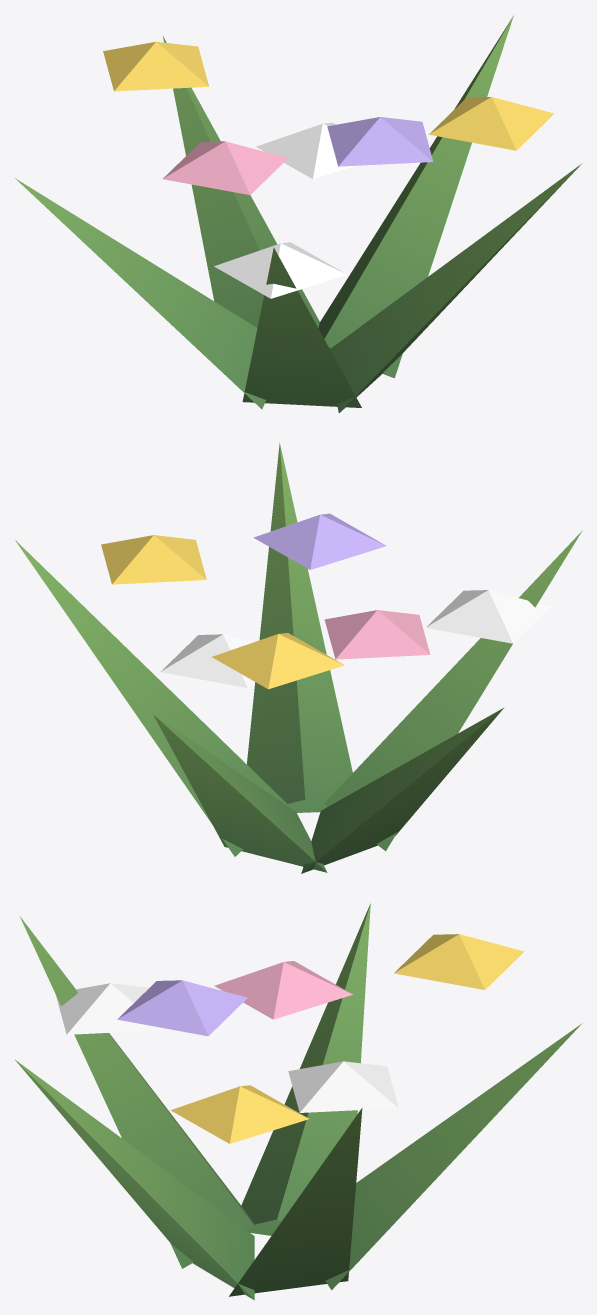
Rendered from flowers_patch.glb.
The picture shows the model from 3 angles, top to bottom: view 1: azimuth 30°, elevation 25°; view 2: azimuth 150°, elevation 25°; view 3: azimuth 270°, elevation 25°; orthographic projection. The views are drawn at different scales.
Parts seen in each view (by area): view 1: flowers_patch; view 2: flowers_patch; view 3: flowers_patch.
Part boxes in pixels (x1=…): flowers_patch: x1=15, y1=15, x2=582, y2=412; flowers_patch: x1=15, y1=442, x2=582, y2=873; flowers_patch: x1=15, y1=903, x2=582, y2=1300.
Size of the model in its own units: 0.3804 by 0.21 by 0.3634.
